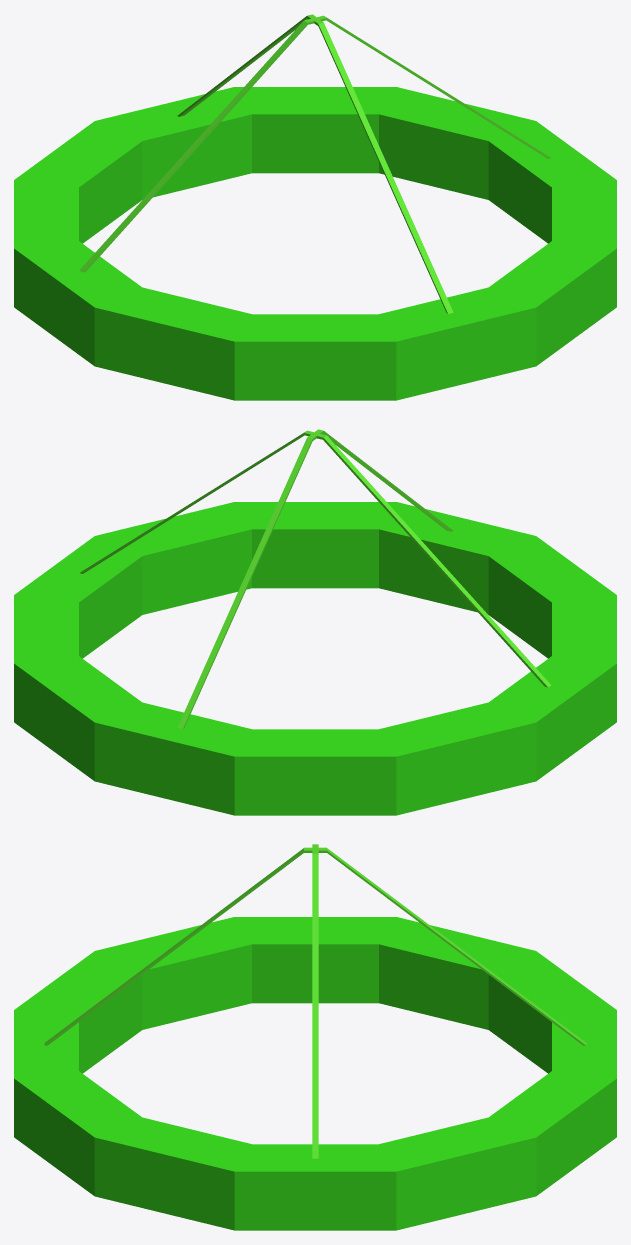
File: Lamp_11_A.fbx
3 renders of one model, top to bottom at view 1: azimuth 30°, elevation 25°; view 2: azimuth 150°, elevation 25°; view 3: azimuth 270°, elevation 25°, orthographic.
Visible parts, largest first — view 1: Lamp_11_A, Lamp_11_A_Support; view 2: Lamp_11_A, Lamp_11_A_Support; view 3: Lamp_11_A, Lamp_11_A_Support.
Part boxes in pixels (x1,y1,x2,y2): Lamp_11_A: [14, 87, 616, 400]; Lamp_11_A_Support: [79, 14, 551, 313]; Lamp_11_A: [14, 502, 616, 815]; Lamp_11_A_Support: [79, 429, 551, 728]; Lamp_11_A: [14, 917, 616, 1230]; Lamp_11_A_Support: [44, 844, 586, 1158].
Size of the model in its own units: 177 by 82.11 by 177.
